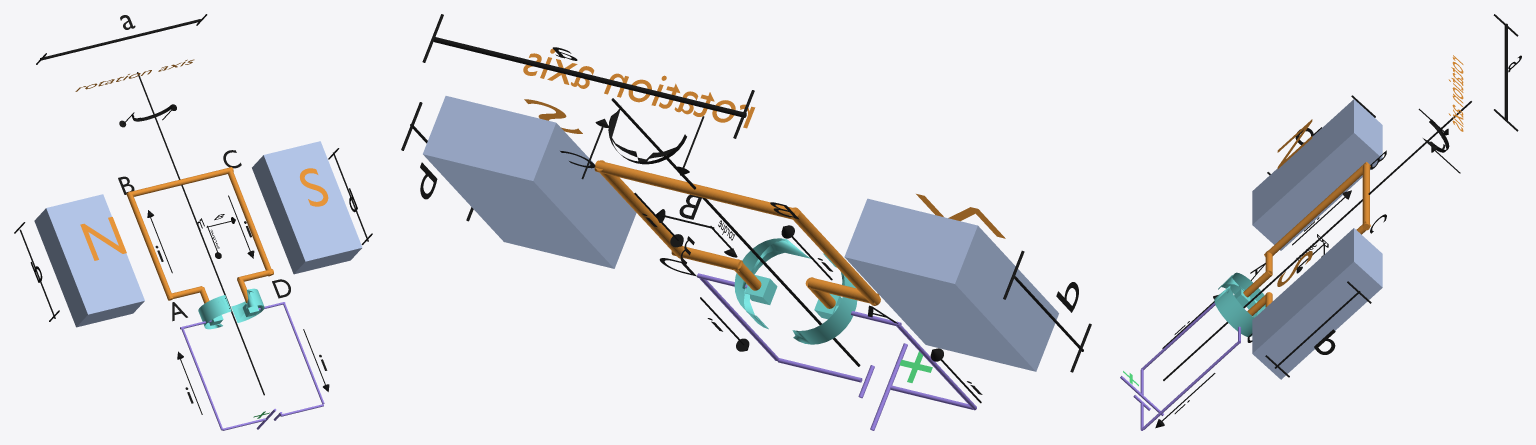
The model's file is torque_mf.glb.
3 renders of one model, left to right at view 1: azimuth 30°, elevation 25°; view 2: azimuth 150°, elevation 25°; view 3: azimuth 270°, elevation 25°, orthographic. The views are drawn at different scales.
Visible parts, largest first — view 1: Cube, Cube.001, Cylinder.002, Cylinder, Cylinder.023, Cylinder.001, Cylinder.007, Text.002, Cylinder.024, Cylinder.008, Text.003; view 2: Cube.001, Cube, Cylinder.001, Text.006, Cylinder.024, Cylinder.008, Cylinder.002, Cylinder.007, Cylinder, Cylinder.023, Cylinder.034, Cylinder.003 (+1 smaller); view 3: Cube, Cube.001, Cylinder.008, Cylinder.002, Cylinder.023, Cylinder.007, Cylinder.001, Text.006, Cylinder.009.
Part boxes in pixels (left/top/right/bottom): Cube: left=252, top=141, right=362, bottom=274; Cube.001: left=34, top=194, right=144, bottom=327; Cylinder.002: left=126, top=191, right=173, bottom=300; Cylinder: left=228, top=167, right=273, bottom=276; Cylinder.023: left=137, top=72, right=264, bottom=395; Cylinder.001: left=131, top=167, right=233, bottom=196; Cylinder.007: left=198, top=295, right=231, bottom=329; Text.002: left=80, top=217, right=126, bottom=260; Cylinder.024: left=40, top=19, right=201, bottom=60; Cylinder.008: left=231, top=288, right=264, bottom=322; Text.003: left=300, top=168, right=328, bottom=206; Cube.001: left=844, top=198, right=1058, bottom=371; Cube: left=423, top=96, right=636, bottom=268; Cylinder.001: left=594, top=160, right=795, bottom=219; Text.006: left=523, top=48, right=755, bottom=128; Cylinder.024: left=433, top=37, right=746, bottom=117; Cylinder.008: left=734, top=238, right=810, bottom=329; Cylinder.002: left=789, top=207, right=880, bottom=305; Cylinder.007: left=792, top=253, right=857, bottom=344; Cylinder: left=595, top=160, right=683, bottom=258; Cylinder.023: left=611, top=98, right=860, bottom=366; Cylinder.034: left=608, top=109, right=686, bottom=164; Cylinder.003: left=671, top=246, right=742, bottom=271; Cube: left=1252, top=228, right=1382, bottom=379; Cube.001: left=1252, top=99, right=1382, bottom=250; Cylinder.008: left=1214, top=286, right=1254, bottom=336; Cylinder.002: left=1264, top=162, right=1370, bottom=256; Cylinder.023: left=1163, top=101, right=1471, bottom=380; Cylinder.007: left=1218, top=272, right=1265, bottom=317; Cylinder.001: left=1362, top=163, right=1369, bottom=230; Text.006: left=1448, top=55, right=1463, bottom=131; Cylinder.009: left=1142, top=341, right=1238, bottom=429.
Bounding box in the file's own units: 9.24 × 8.27 × 8.2.
